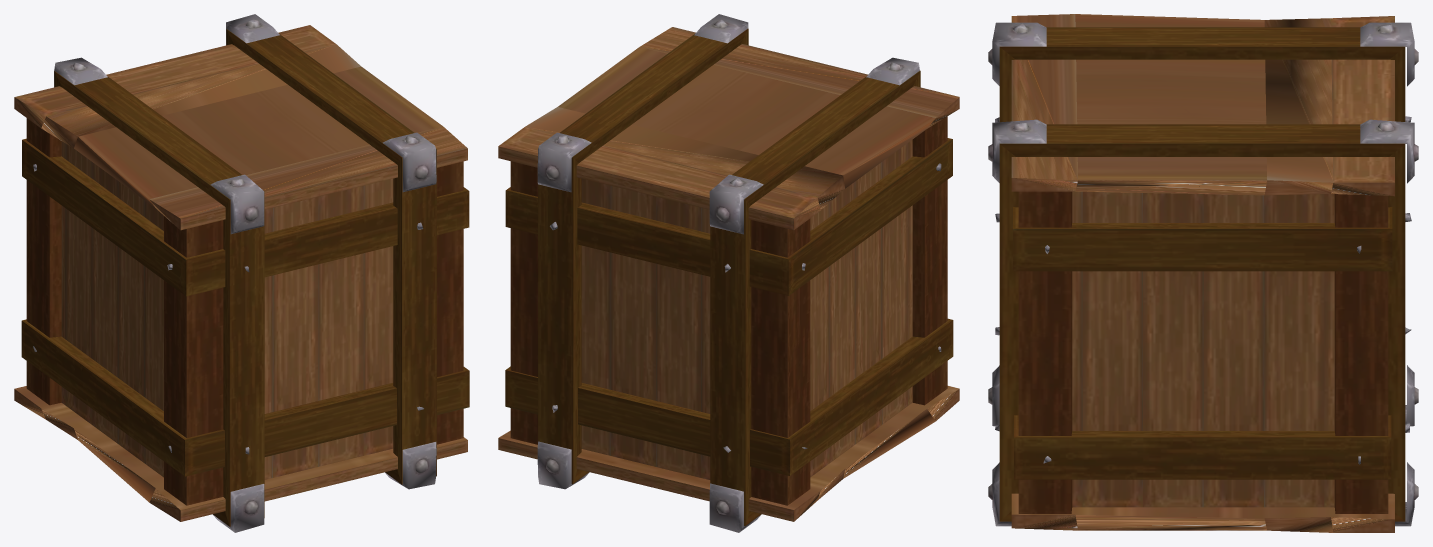
File: Crate_Wooden.gltf
3 renders of one model, left to right at view 1: azimuth 30°, elevation 25°; view 2: azimuth 150°, elevation 25°; view 3: azimuth 270°, elevation 25°, orthographic. The views are drawn at different scales.
Visible parts, largest first — view 1: Crate_Wooden; view 2: Crate_Wooden; view 3: Crate_Wooden.
Part boxes in pixels (left/top/right/bottom): Crate_Wooden: left=14, top=14, right=469, bottom=532; Crate_Wooden: left=498, top=14, right=959, bottom=532; Crate_Wooden: left=988, top=14, right=1418, bottom=532.
Size of the model in its own units: 0.8423 by 0.9309 by 0.9083.
Materials: 2 (2 with a texture image).
